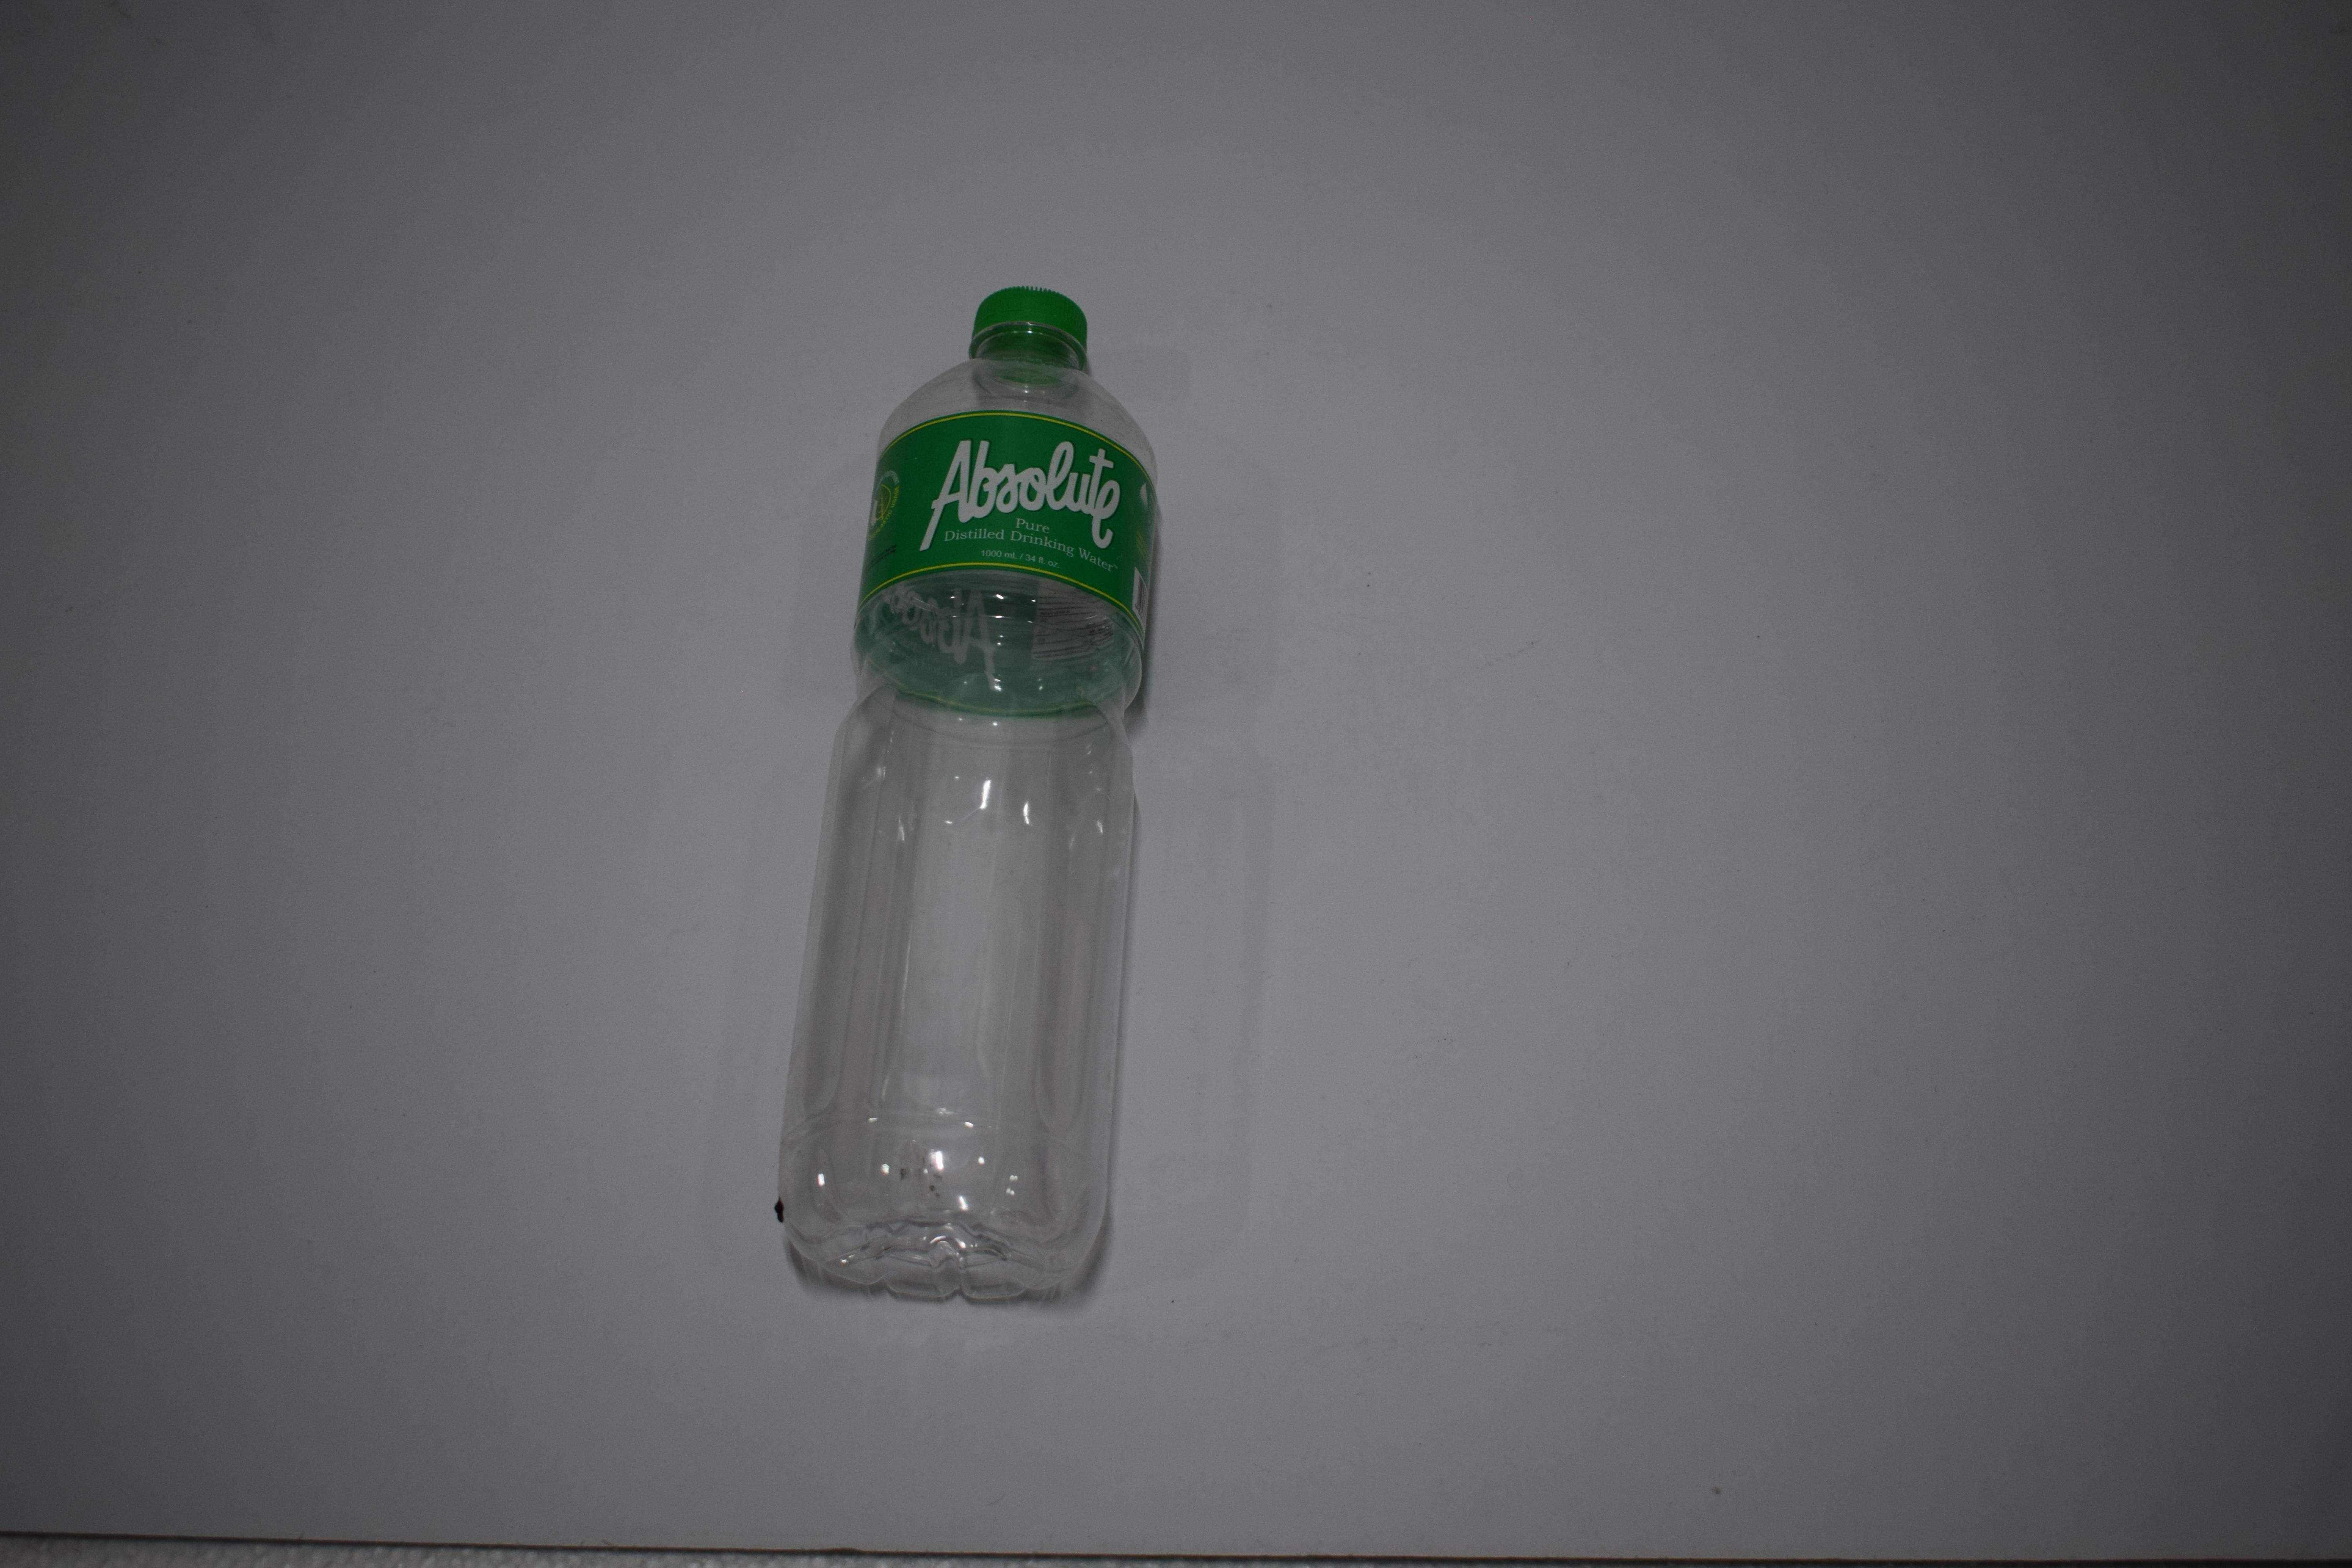bottle: (768, 0, 1169, 528)
